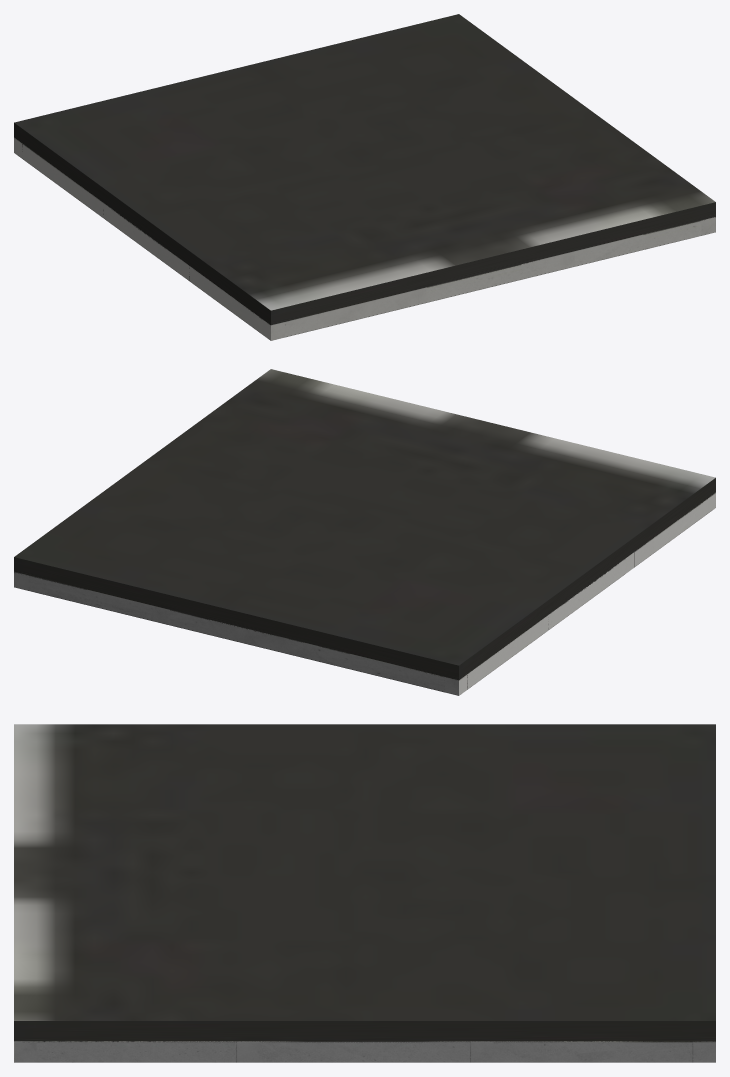
Rendered from ceiling.gltf.
3 renders of one model, top to bottom at view 1: azimuth 30°, elevation 25°; view 2: azimuth 150°, elevation 25°; view 3: azimuth 270°, elevation 25°, orthographic. The views are drawn at different scales.
Visible parts, largest first — view 1: Ceiling, CeilingPillar; view 2: Ceiling, CeilingPillar; view 3: Ceiling, CeilingPillar.
Boxes of the visible parts, box(x1,y1,x2,y2) form: Ceiling: box(14, 14, 715, 325); CeilingPillar: box(14, 138, 715, 340); Ceiling: box(14, 369, 715, 680); CeilingPillar: box(14, 492, 715, 695); Ceiling: box(14, 724, 715, 1042); CeilingPillar: box(14, 1041, 715, 1062).
Size of the model in its own units: 30 by 3.66 by 30.
7 materials, 7 textured.
